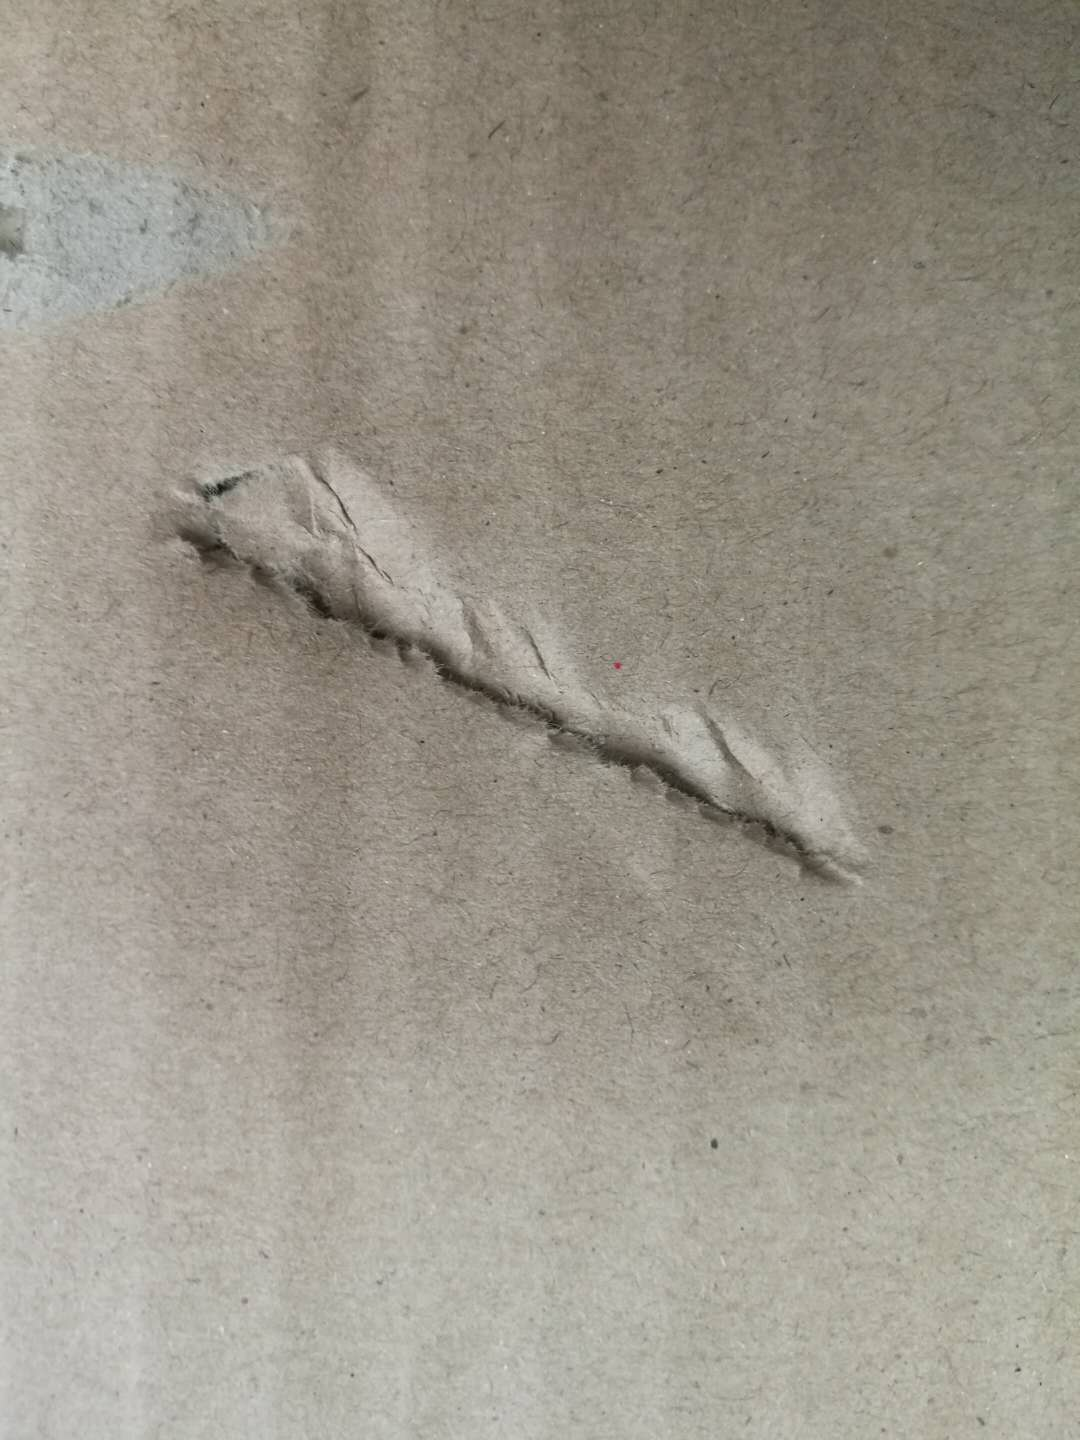defect: (125, 424, 933, 916), (1, 115, 332, 342)
